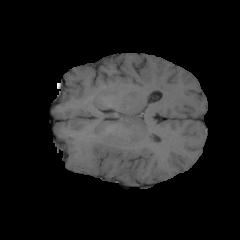glioma: (67, 114, 156, 173)
